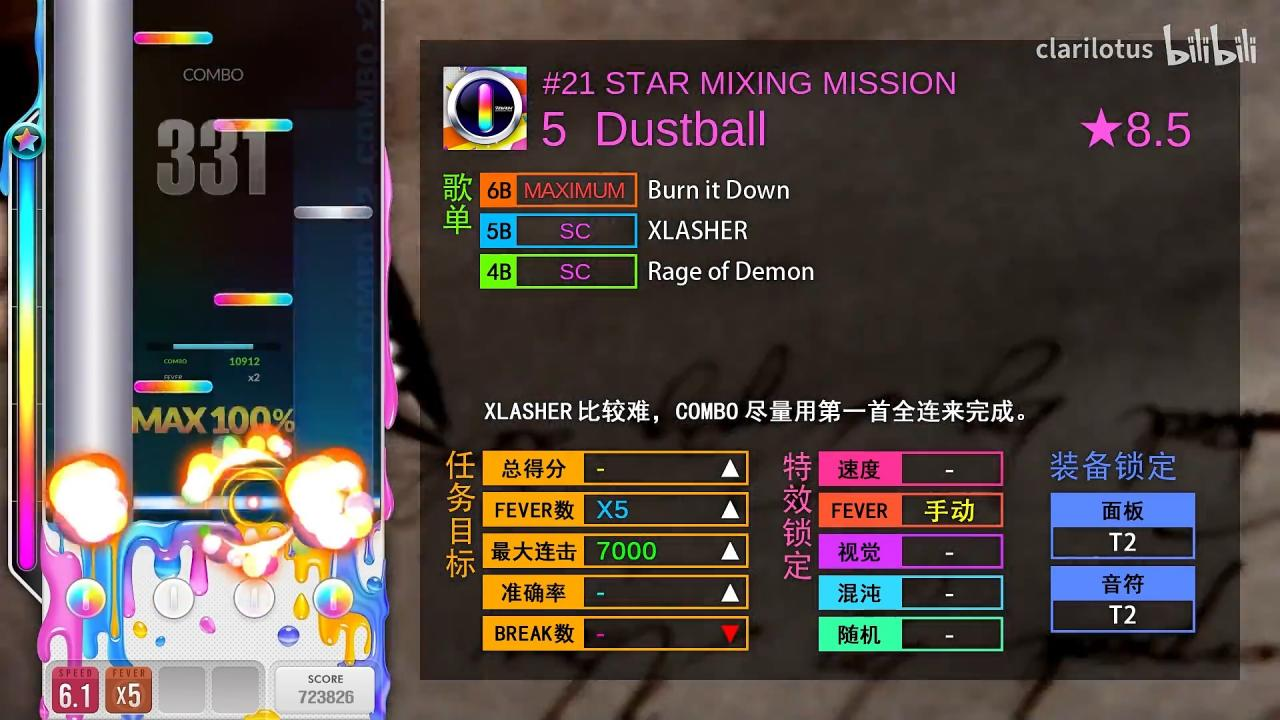note: (134, 31, 213, 46), (214, 293, 293, 307), (214, 467, 293, 481), (133, 381, 213, 394), (294, 206, 373, 219), (214, 119, 292, 132)
